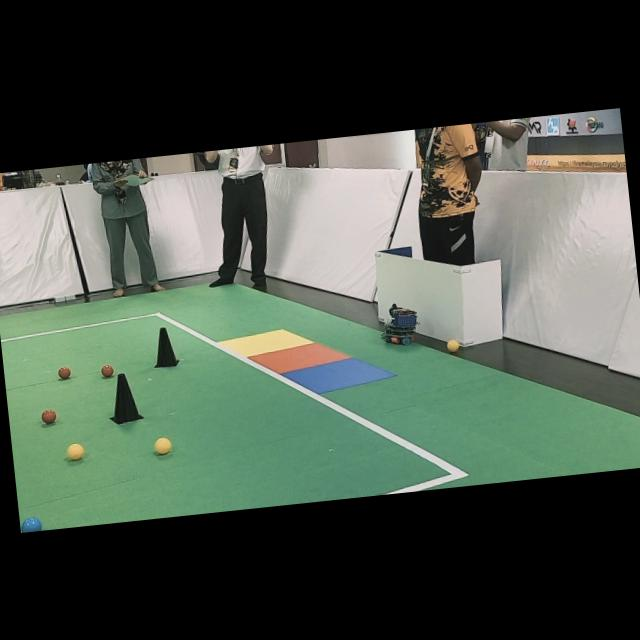ball: (20, 516, 40, 532), (66, 442, 84, 459), (154, 437, 171, 454), (41, 409, 56, 423), (100, 364, 114, 377), (58, 365, 71, 379), (446, 339, 459, 352)
goal: (282, 357, 395, 393), (250, 342, 350, 373), (219, 329, 313, 357)
